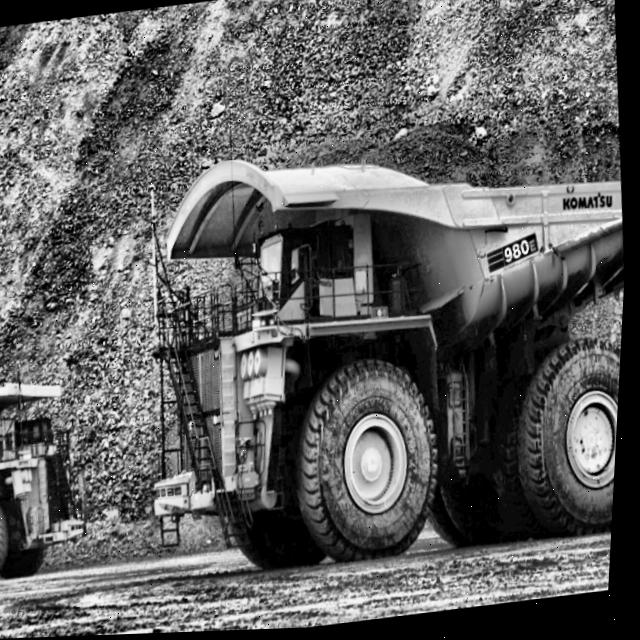dump_truck: (122, 99, 635, 612), (0, 336, 104, 596)
